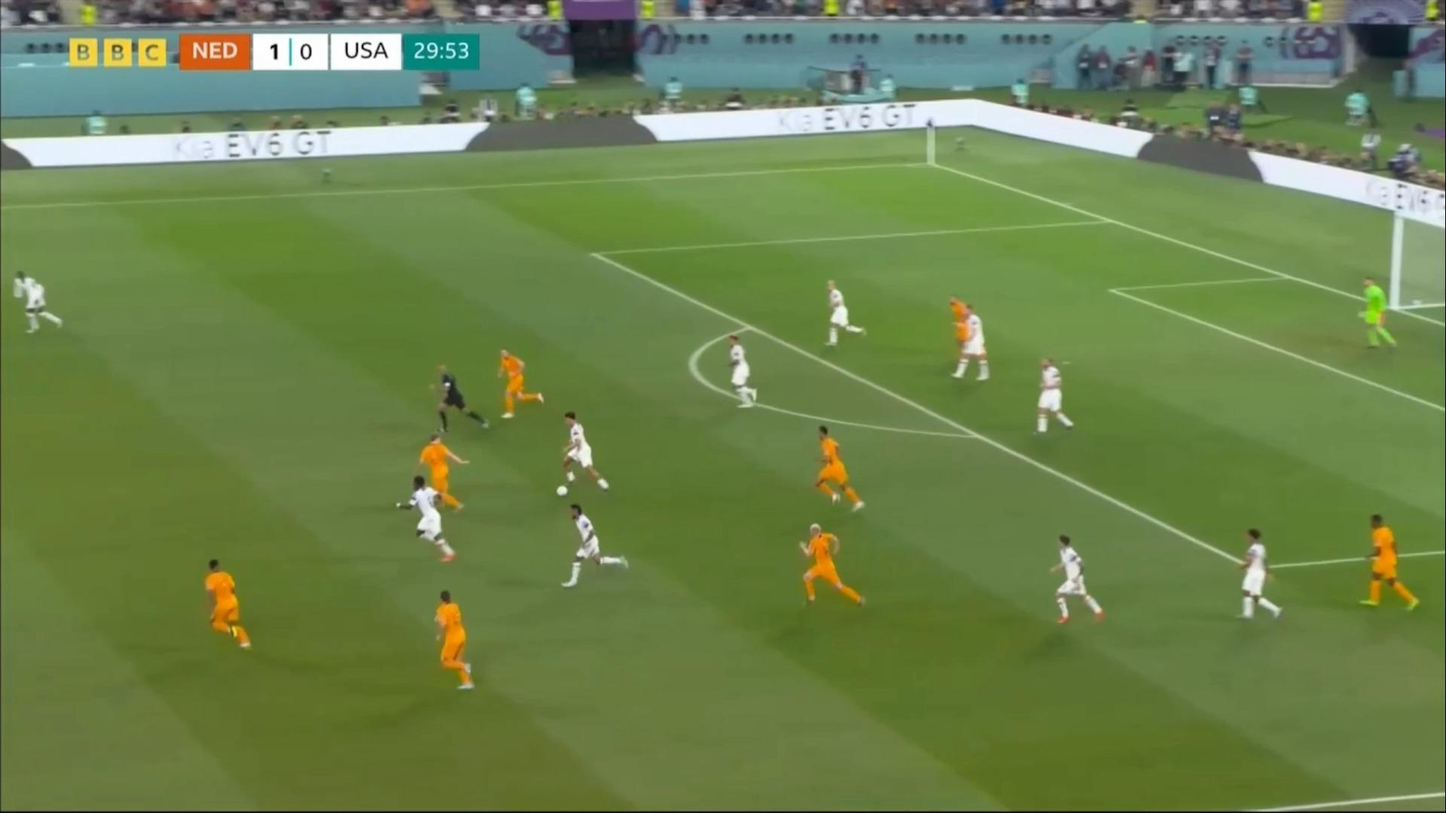Ball: (555, 483, 570, 500)
Player: (1356, 511, 1422, 615), (795, 521, 869, 612), (1043, 531, 1111, 630), (558, 502, 631, 593), (1227, 526, 1291, 627), (422, 588, 482, 694), (391, 475, 458, 567), (197, 560, 257, 658), (553, 406, 614, 500), (810, 421, 868, 514), (1030, 353, 1086, 438), (417, 433, 472, 518), (952, 300, 1000, 386), (8, 264, 64, 336), (718, 331, 765, 414), (494, 348, 543, 427), (816, 279, 866, 353), (1361, 277, 1397, 352), (942, 294, 978, 359)
Ref: (426, 360, 487, 438)
